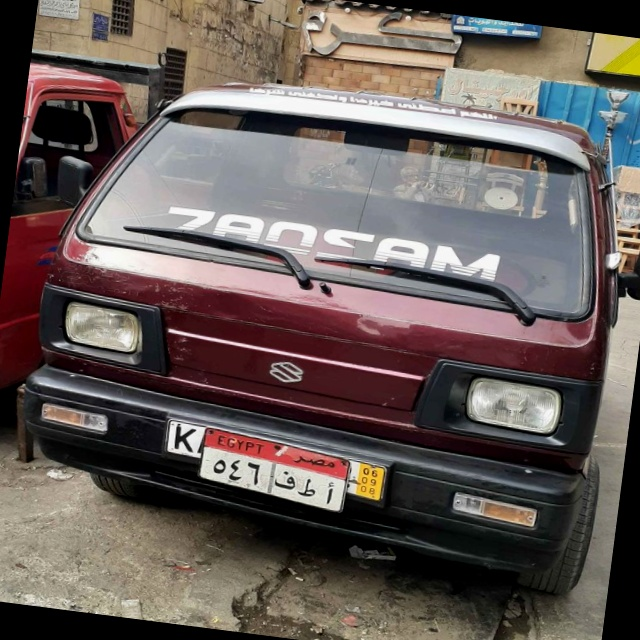License Plate: (194, 427, 354, 515)
